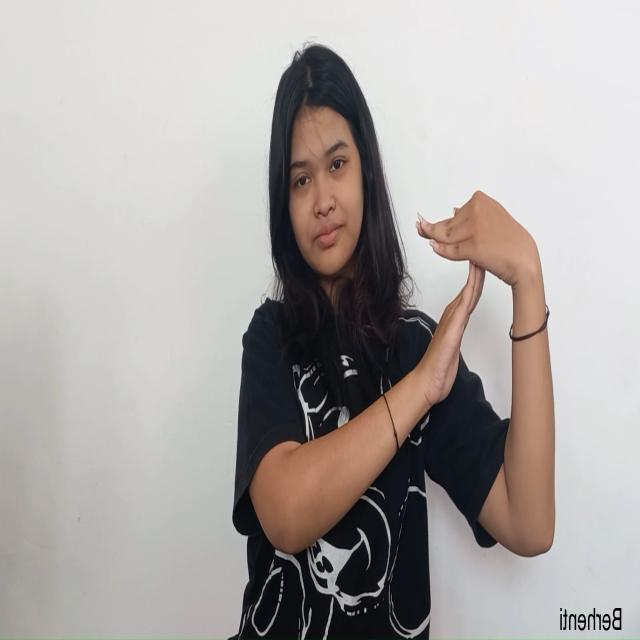Berhenti -BISINDO-: (411, 185, 560, 431)
